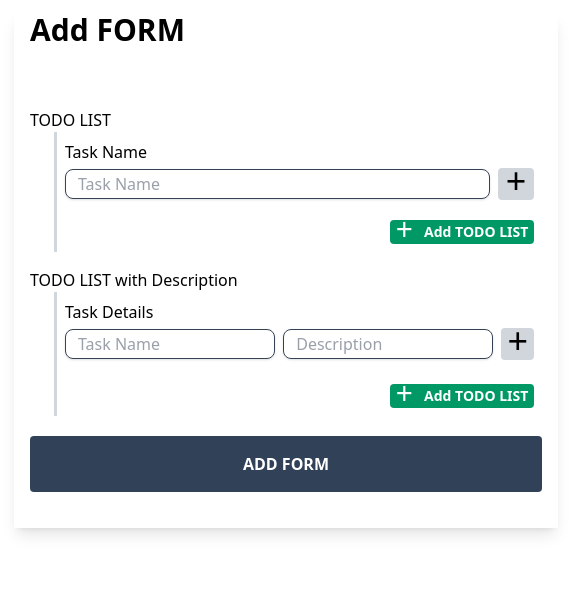
Test case: App Component › Simple Todo List › should delete a todo when clicking delete button
Step 1. Type "Test Todo" into the 1st field with placeholder "Task Name" → (278,184), box x1=65 y1=169 x2=490 y2=199
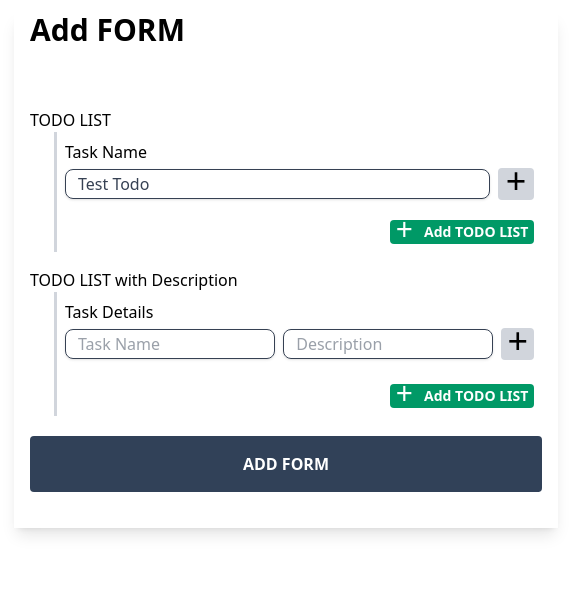
Step 2. Click the button with test id "add-initial-todo" → (516,184), box x1=498 y1=168 x2=534 y2=200
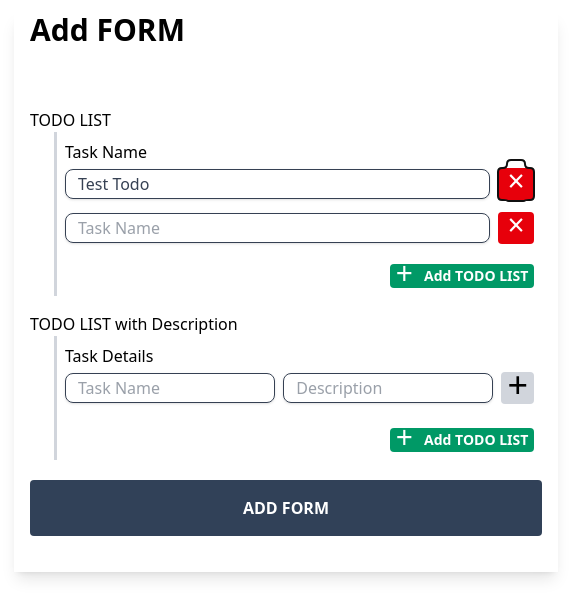
Expected: the number of fields with placeholder "Task Name" is 3, x1=65 y1=169 x2=490 y2=199; x1=65 y1=213 x2=490 y2=243; x1=65 y1=373 x2=275 y2=403
Step 3. Click the button with test id "delete-todo-0" → (516,184), box x1=498 y1=168 x2=534 y2=200
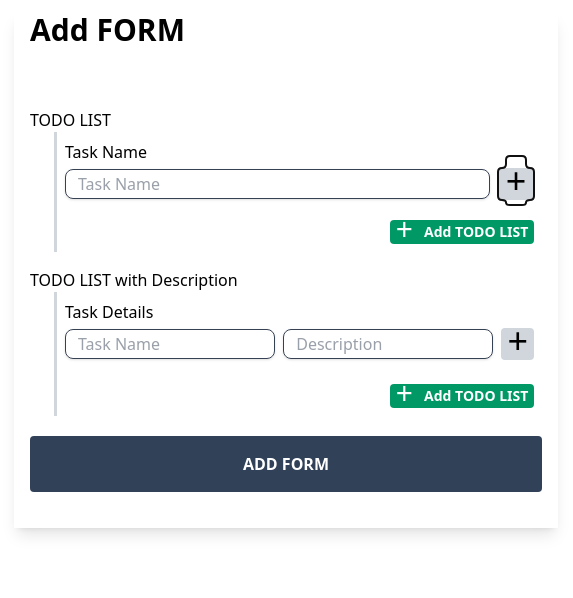
Expected: the number of fields with placeholder "Task Name" is 2, x1=65 y1=169 x2=490 y2=199; x1=65 y1=329 x2=275 y2=359
